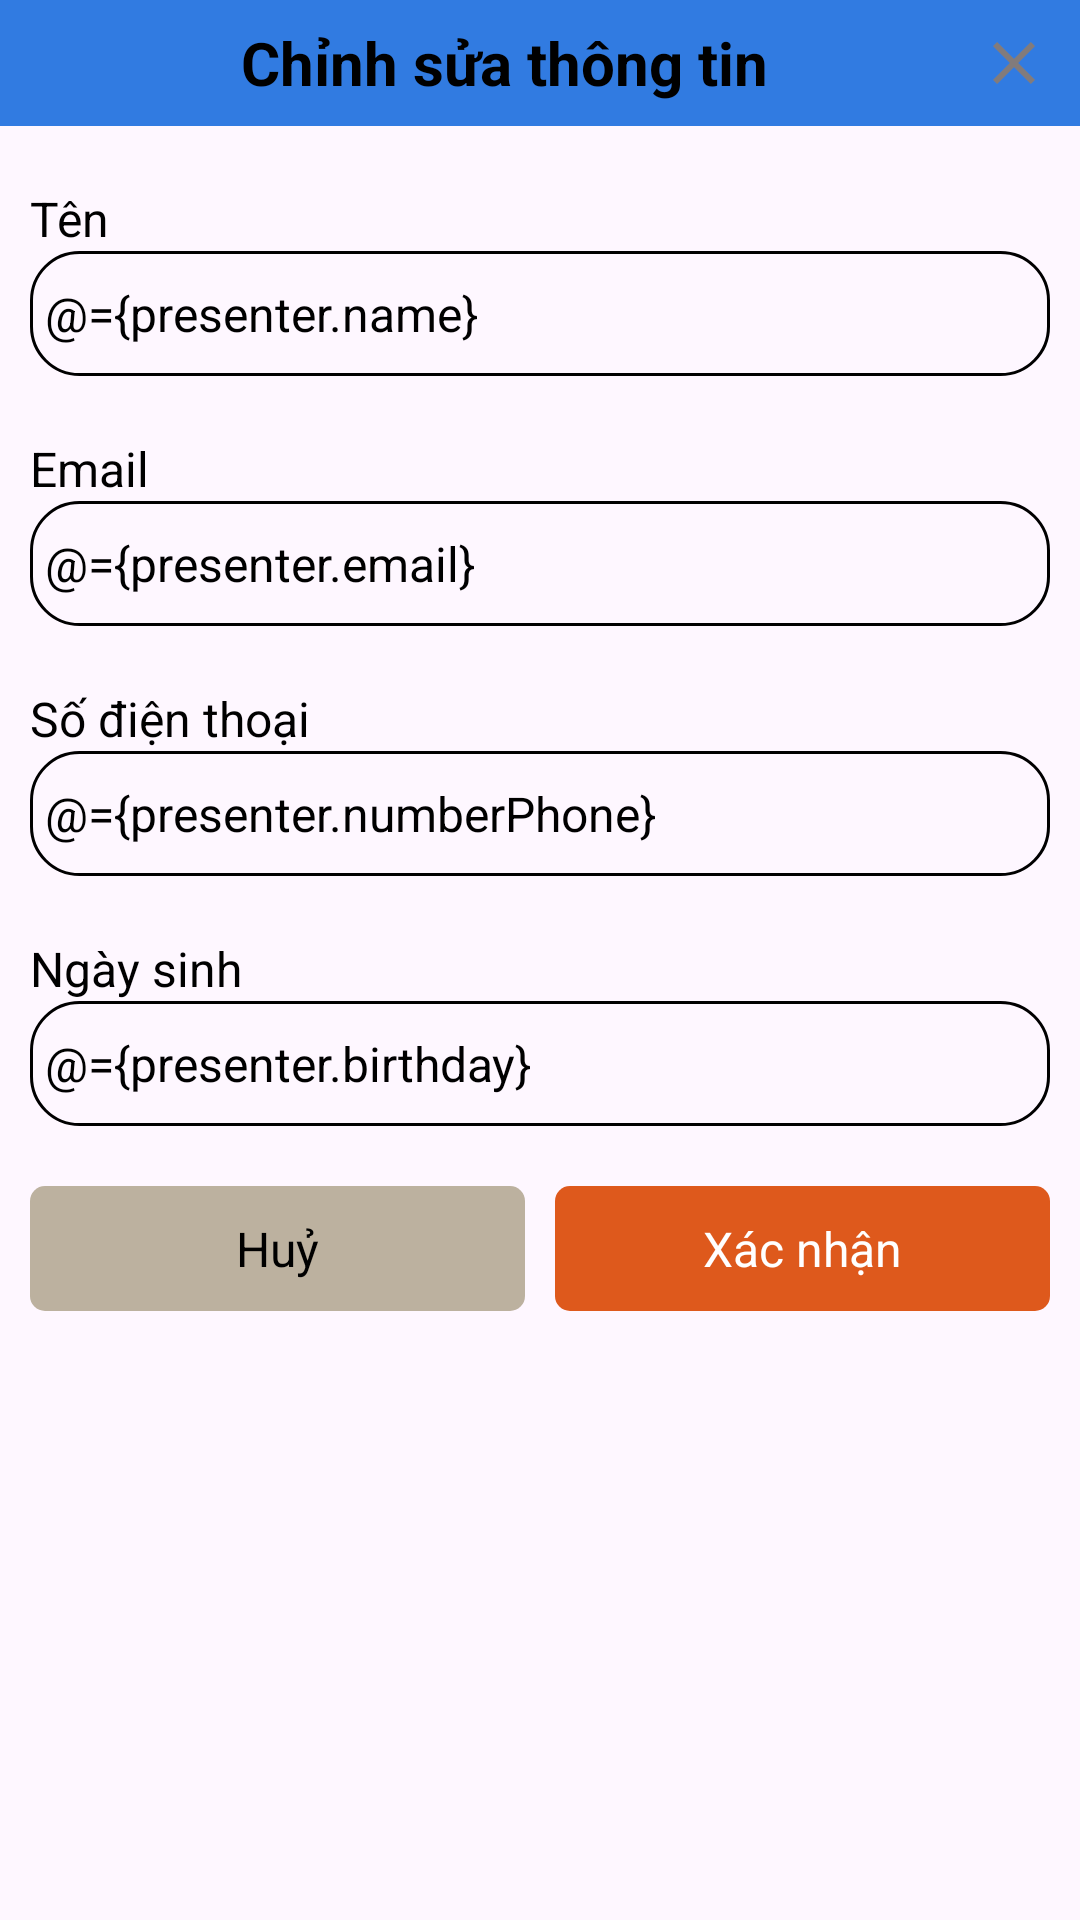

Icon bounding boxes for this 1080px×1920px phone screenshot, format [left=x1, top=y1, right=x2, bottom=y2]:
close: [left=993, top=42, right=1035, bottom=84]
